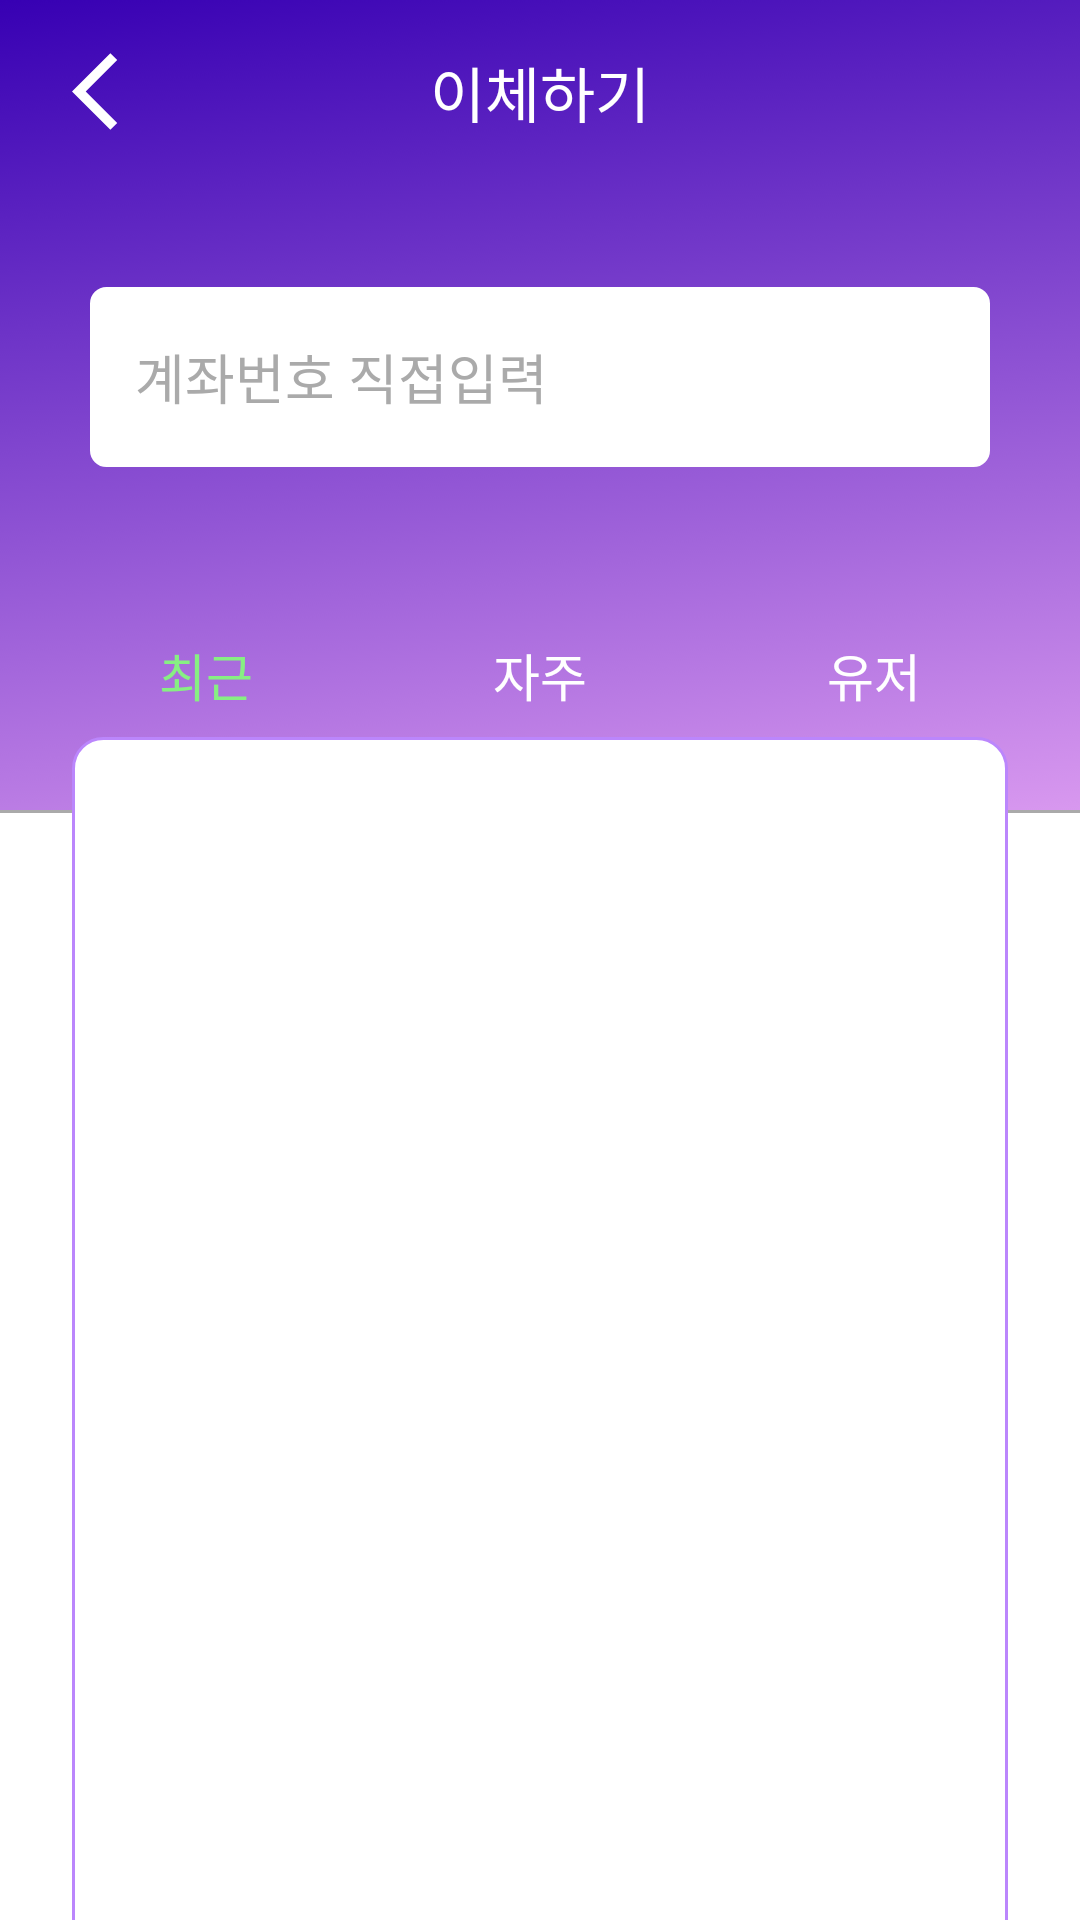

Icons on this 1080*1920 Android screen, each with its box as (x1=x1, y1=y1, x2=x2, y2=y2):
back: (x1=72, y1=53, x2=117, y2=130)
